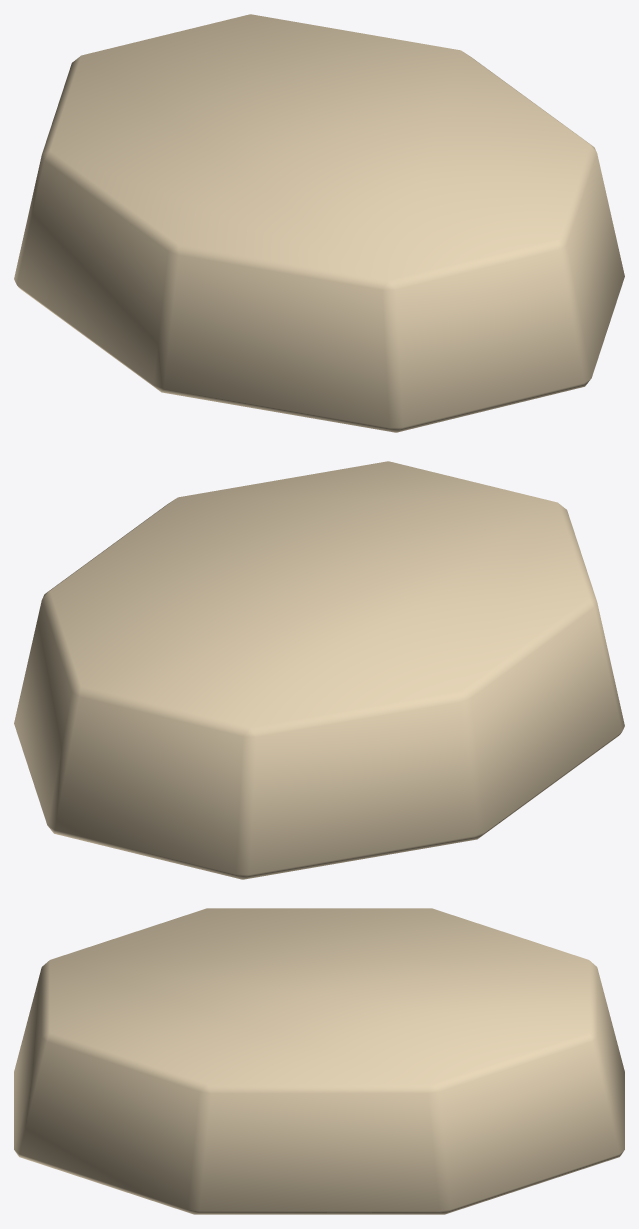
The model's file is plate_heavy_tidemark.glb.
The picture shows the model from 3 angles, top to bottom: view 1: azimuth 30°, elevation 25°; view 2: azimuth 150°, elevation 25°; view 3: azimuth 270°, elevation 25°; orthographic projection. The views are drawn at different scales.
Parts seen in each view (by area): view 1: plate_heavy_tidemark; view 2: plate_heavy_tidemark; view 3: plate_heavy_tidemark.
Part boxes in pixels (bbox=[...]): plate_heavy_tidemark: bbox=[14, 14, 624, 432]; plate_heavy_tidemark: bbox=[14, 461, 624, 879]; plate_heavy_tidemark: bbox=[14, 908, 624, 1214].
Size of the model in its own units: 6.44 by 1.8 by 8.27.
